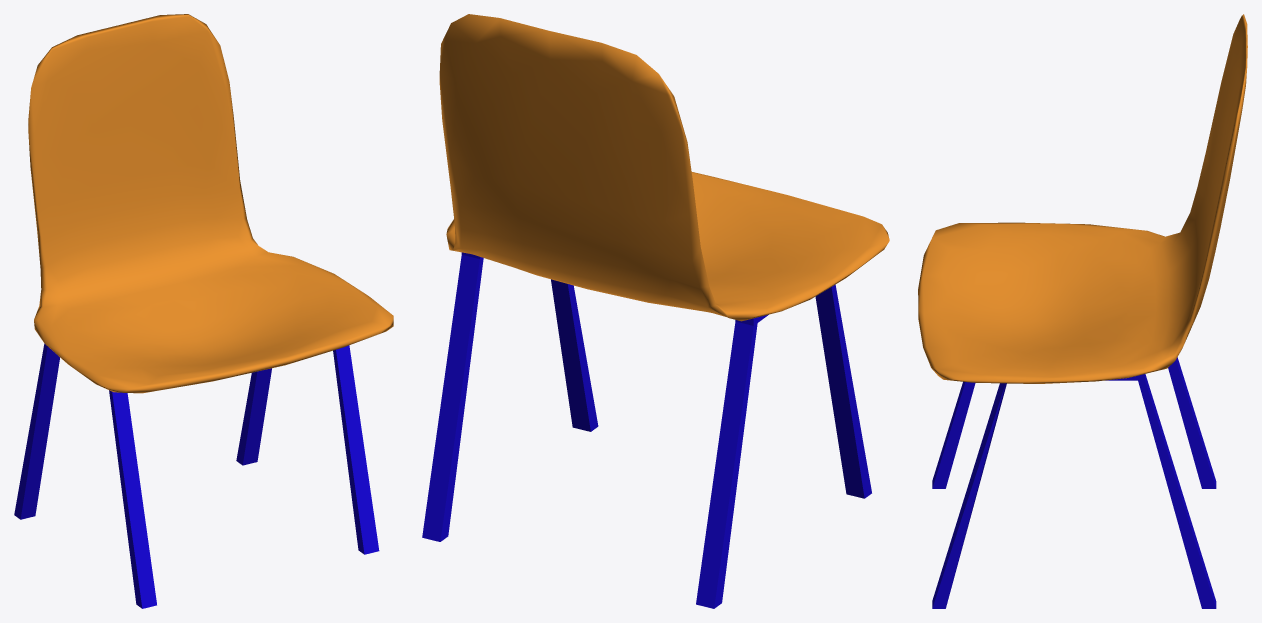
File: chair21uv.fbx
3 views of the same model, side by side, from view 1: azimuth 30°, elevation 25°; view 2: azimuth 150°, elevation 25°; view 3: azimuth 270°, elevation 25° (orthographic). The views are drawn at different scales.
Visible parts, largest first — view 1: chair21re; view 2: chair21re; view 3: chair21re.
Part boxes in pixels (<box>): chair21re: <box>14,14,393,608</box>; chair21re: <box>422,14,889,608</box>; chair21re: <box>918,14,1247,608</box>.
Bounding box in the file's own units: 199 × 291 × 174.
